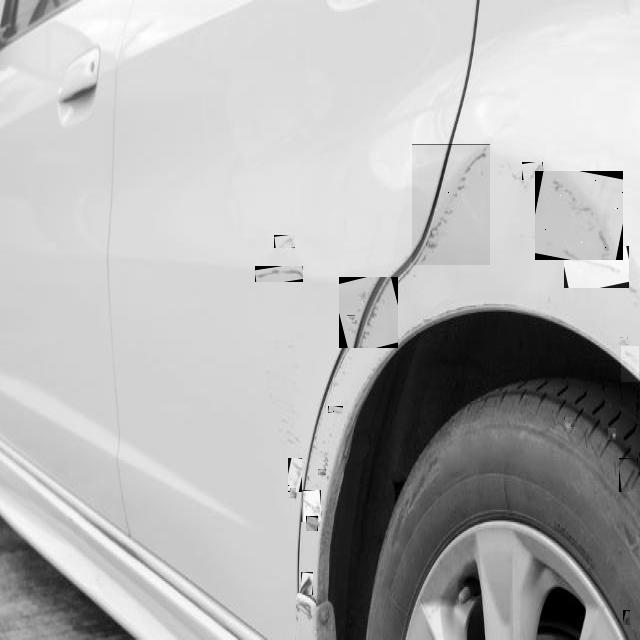Dent: (412, 144, 490, 265), (535, 171, 623, 260), (339, 277, 398, 348), (564, 246, 629, 288), (255, 266, 303, 282), (459, 147, 486, 172), (621, 346, 639, 382), (619, 458, 638, 492), (598, 221, 618, 253), (301, 490, 321, 522), (288, 458, 302, 492), (522, 162, 543, 180), (301, 572, 313, 595), (274, 235, 295, 248), (425, 233, 438, 248), (306, 516, 318, 531), (360, 288, 369, 300), (328, 406, 343, 413), (623, 610, 630, 625), (608, 428, 616, 440), (564, 418, 572, 430), (620, 337, 628, 345), (290, 488, 296, 498), (347, 315, 355, 322), (318, 469, 326, 475)
